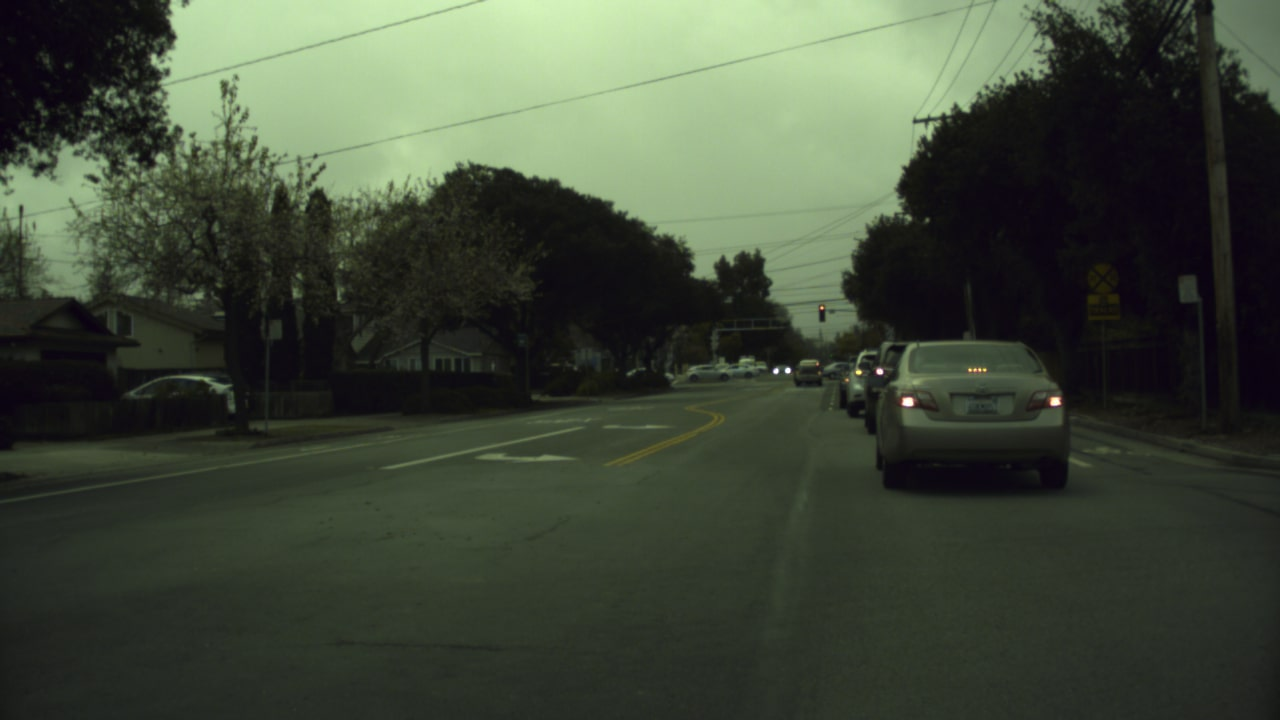signal: (817, 303, 827, 322)
